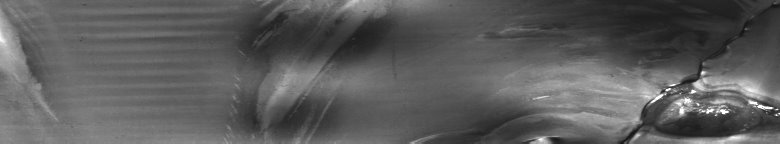ke: (144, 4, 776, 136)
